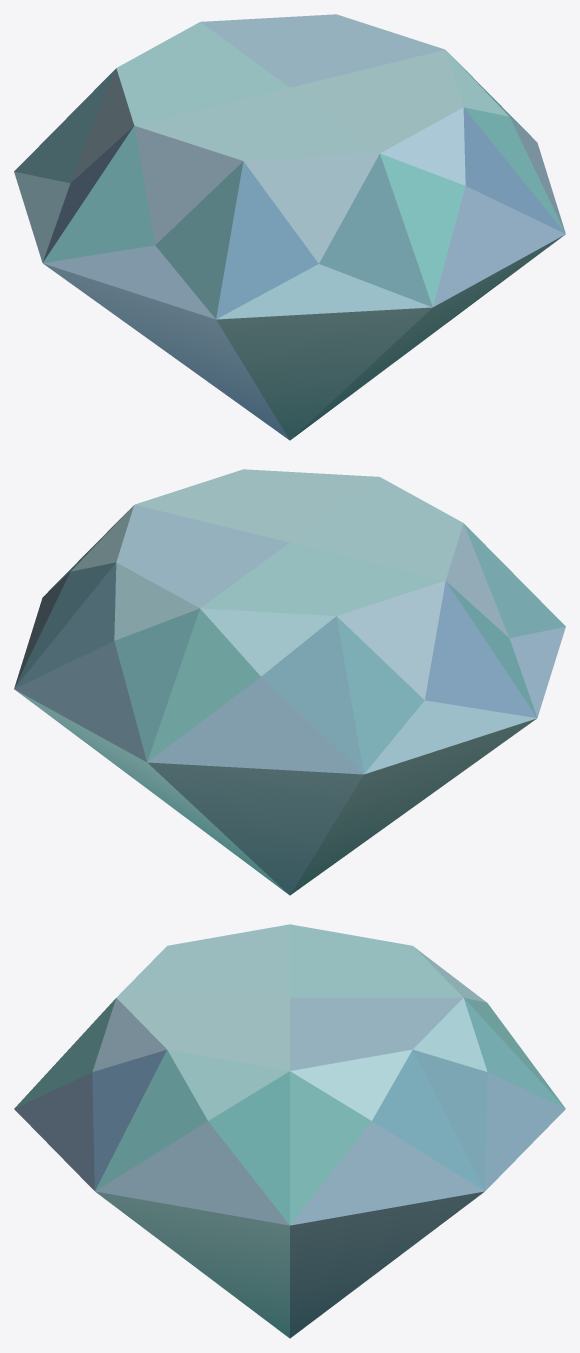
The model's file is geology-crystals-diamond_v5.fbx.
3 views of the same model, one above another, from view 1: azimuth 30°, elevation 25°; view 2: azimuth 150°, elevation 25°; view 3: azimuth 270°, elevation 25° (orthographic). The views are drawn at different scales.
Visible parts, largest first — view 1: Diamond_v5; view 2: Diamond_v5; view 3: Diamond_v5.
Part boxes in pixels (x1=…): Diamond_v5: x1=14, y1=14, x2=565, y2=440; Diamond_v5: x1=14, y1=469, x2=565, y2=895; Diamond_v5: x1=14, y1=924, x2=565, y2=1338.
Bounding box in the file's own units: 0.5103 × 0.3478 × 0.5103.
